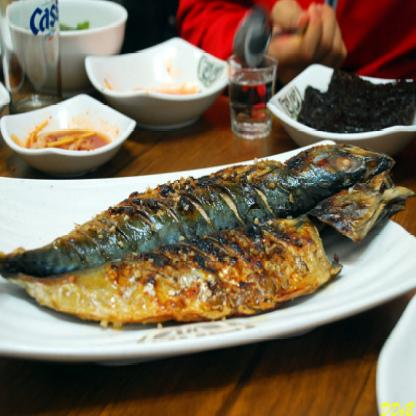Peixe: (0, 134, 415, 344)
